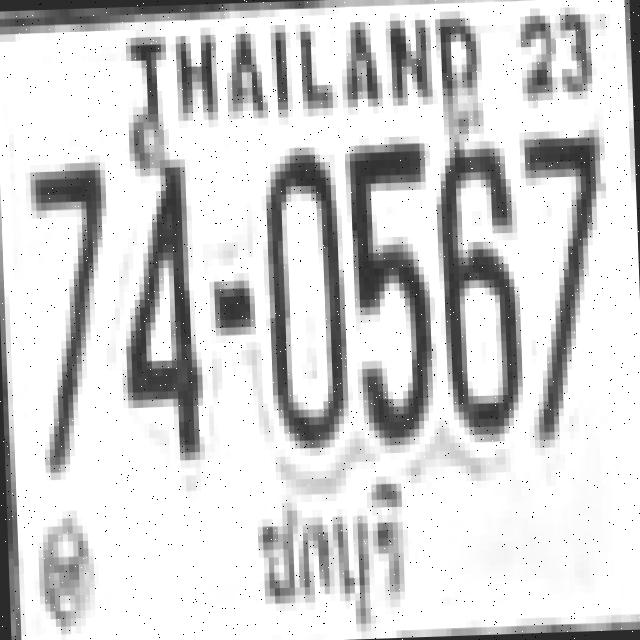0: (259, 146, 344, 441)
4: (114, 136, 200, 454)
5: (344, 135, 429, 438)
6: (434, 136, 519, 431)
7: (24, 158, 110, 469), (518, 121, 604, 432), (24, 158, 109, 430), (24, 158, 106, 368)
Chonburi: (243, 470, 420, 640)
